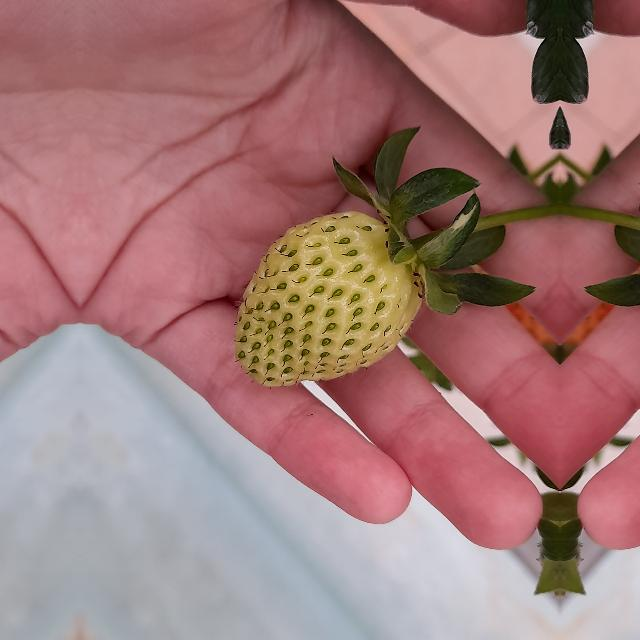Health_25: (234, 210, 422, 386)
